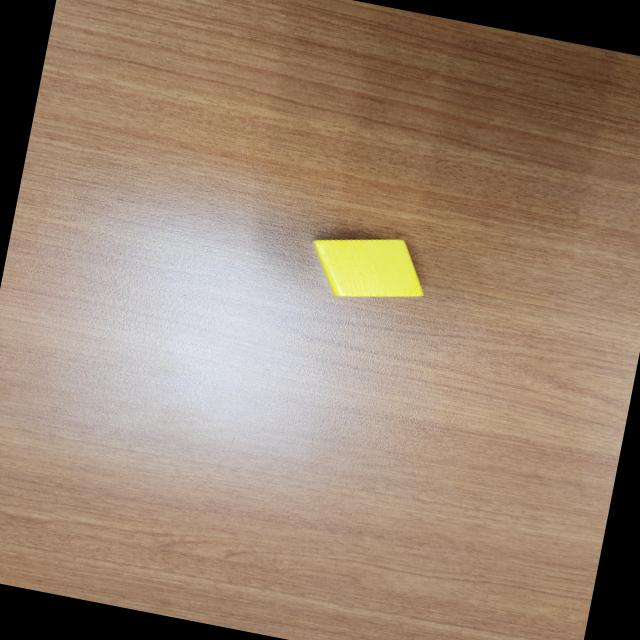yellow: (302, 223, 433, 313)
